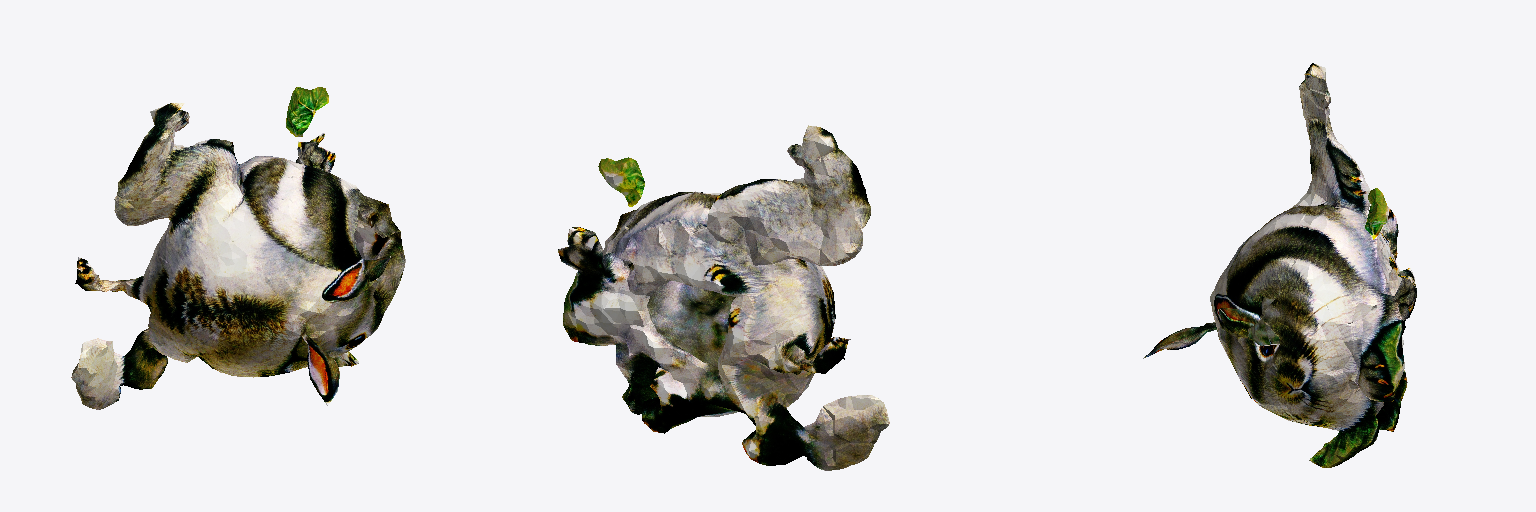
The picture shows the model from 3 angles: view 1: azimuth 30°, elevation 25°; view 2: azimuth 150°, elevation 25°; view 3: azimuth 270°, elevation 25°; orthographic projection.
Visible parts, largest first — view 1: object; view 2: object; view 3: object.
Boxes of the visible parts, x1,y1,x2,y2 form: object: [71, 87, 405, 409]; object: [558, 125, 889, 470]; object: [1143, 63, 1416, 467].
Size of the model in its own units: 1.33 by 1.31 by 1.03.
Materials: 1 (1 with a texture image).